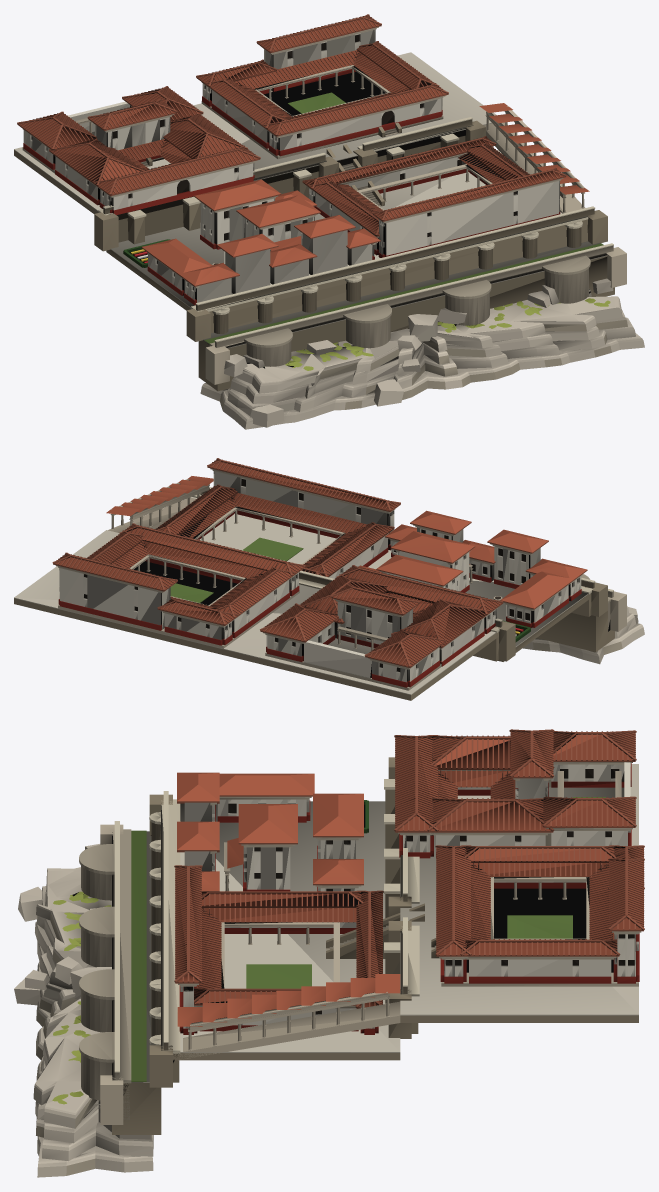
The model's file is rome_domus_augusti.glb.
3 views of the same model, one above another, from view 1: azimuth 30°, elevation 25°; view 2: azimuth 150°, elevation 25°; view 3: azimuth 270°, elevation 25° (orthographic). The views are drawn at different scales.
Visible parts, largest first — view 1: rome_domus_augusti; view 2: rome_domus_augusti; view 3: rome_domus_augusti.
Boxes of the visible parts, x1,y1,x2,y2 form: rome_domus_augusti: (14,14,644,429); rome_domus_augusti: (14,458,644,700); rome_domus_augusti: (14,729,644,1177).
Size of the model in its own units: 74.8 by 30.84 by 76.62.
